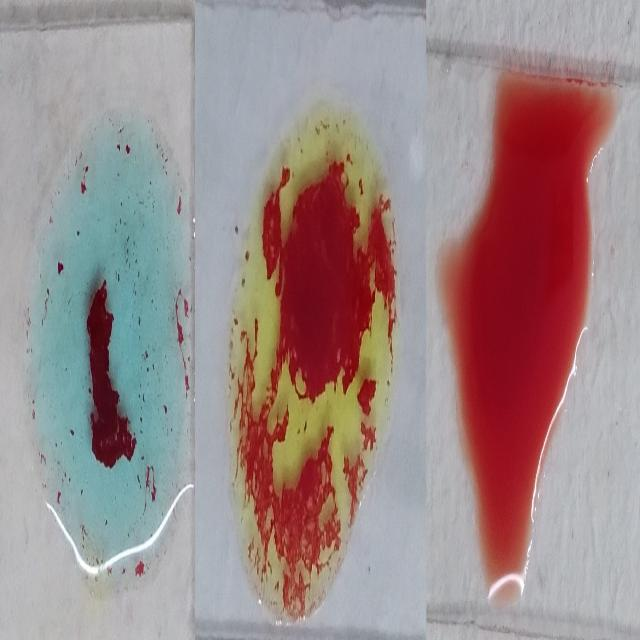A: (21, 109, 191, 590)
B: (231, 103, 396, 629)
